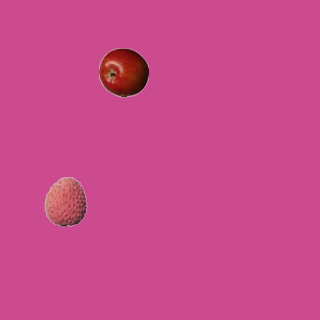Apple Braeburn: (98, 47, 148, 97)
Lychee: (40, 176, 90, 226)
